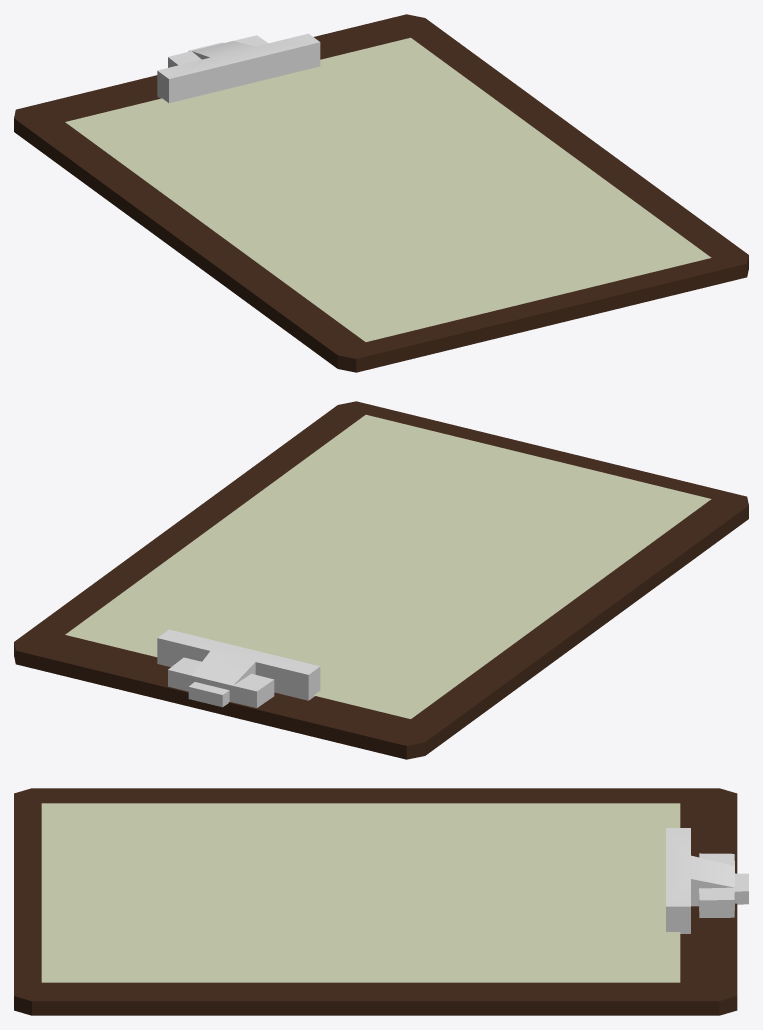
The model's file is Clipboard.fbx.
The picture shows the model from 3 angles, top to bottom: view 1: azimuth 30°, elevation 25°; view 2: azimuth 150°, elevation 25°; view 3: azimuth 270°, elevation 25°; orthographic projection. The views are drawn at different scales.
Parts seen in each view (by area): view 1: Clipboard; view 2: Clipboard; view 3: Clipboard.
Part boxes in pixels (x1,y1,x2,y2): Clipboard: (14, 14, 748, 372); Clipboard: (14, 401, 748, 759); Clipboard: (14, 788, 748, 1015).
Size of the model in its own units: 0.2061 by 0.0189 by 0.3005.
